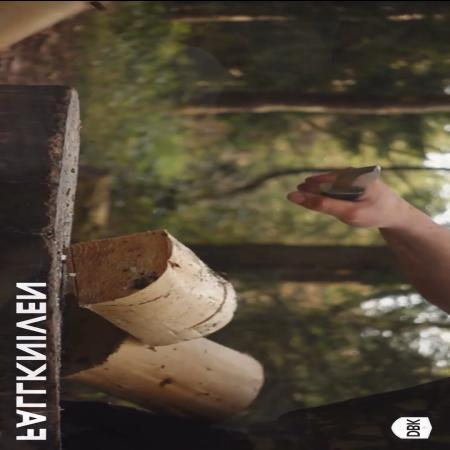long weapon: (283, 158, 393, 214)
